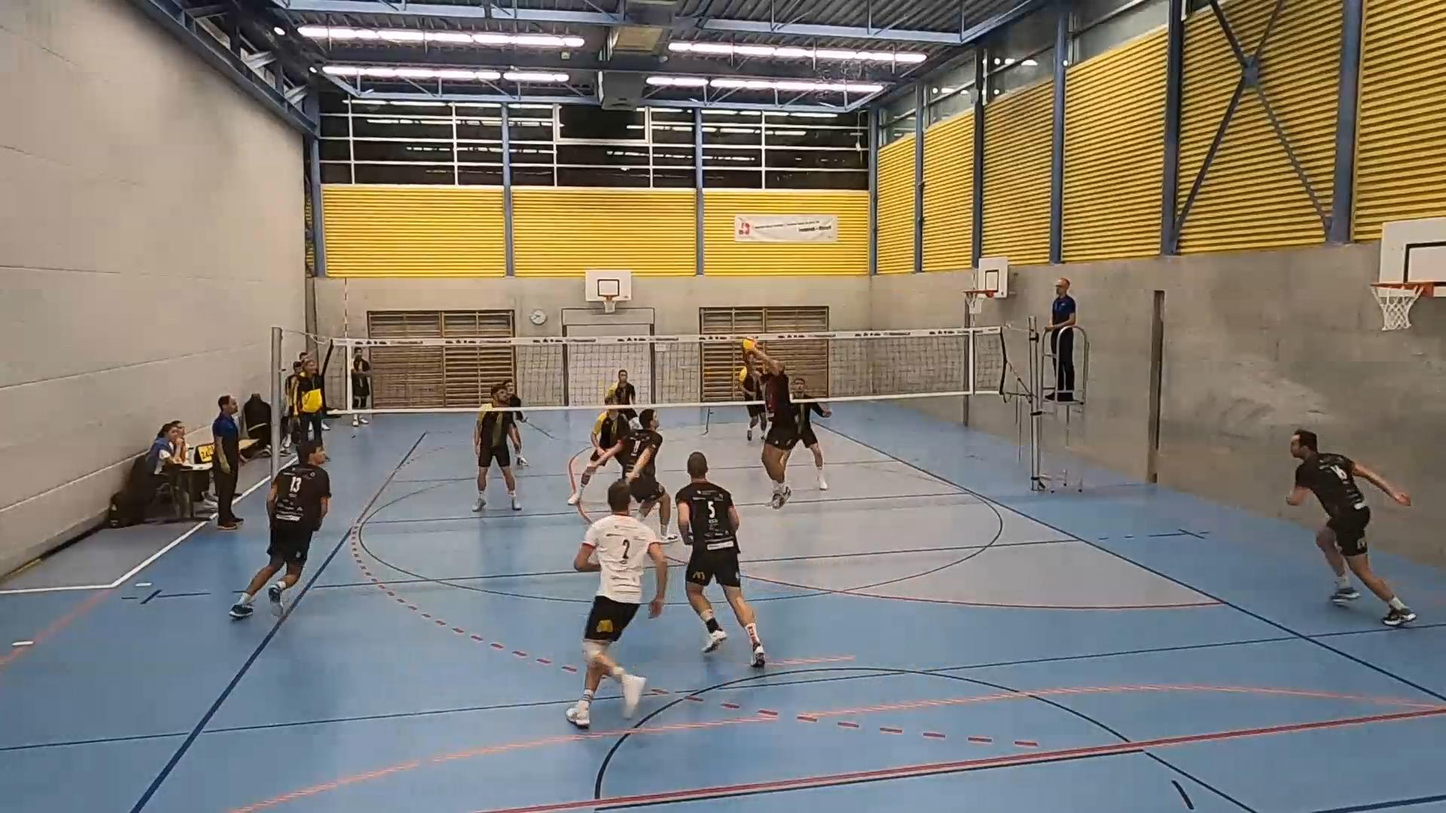alzata: (740, 349, 812, 515)
